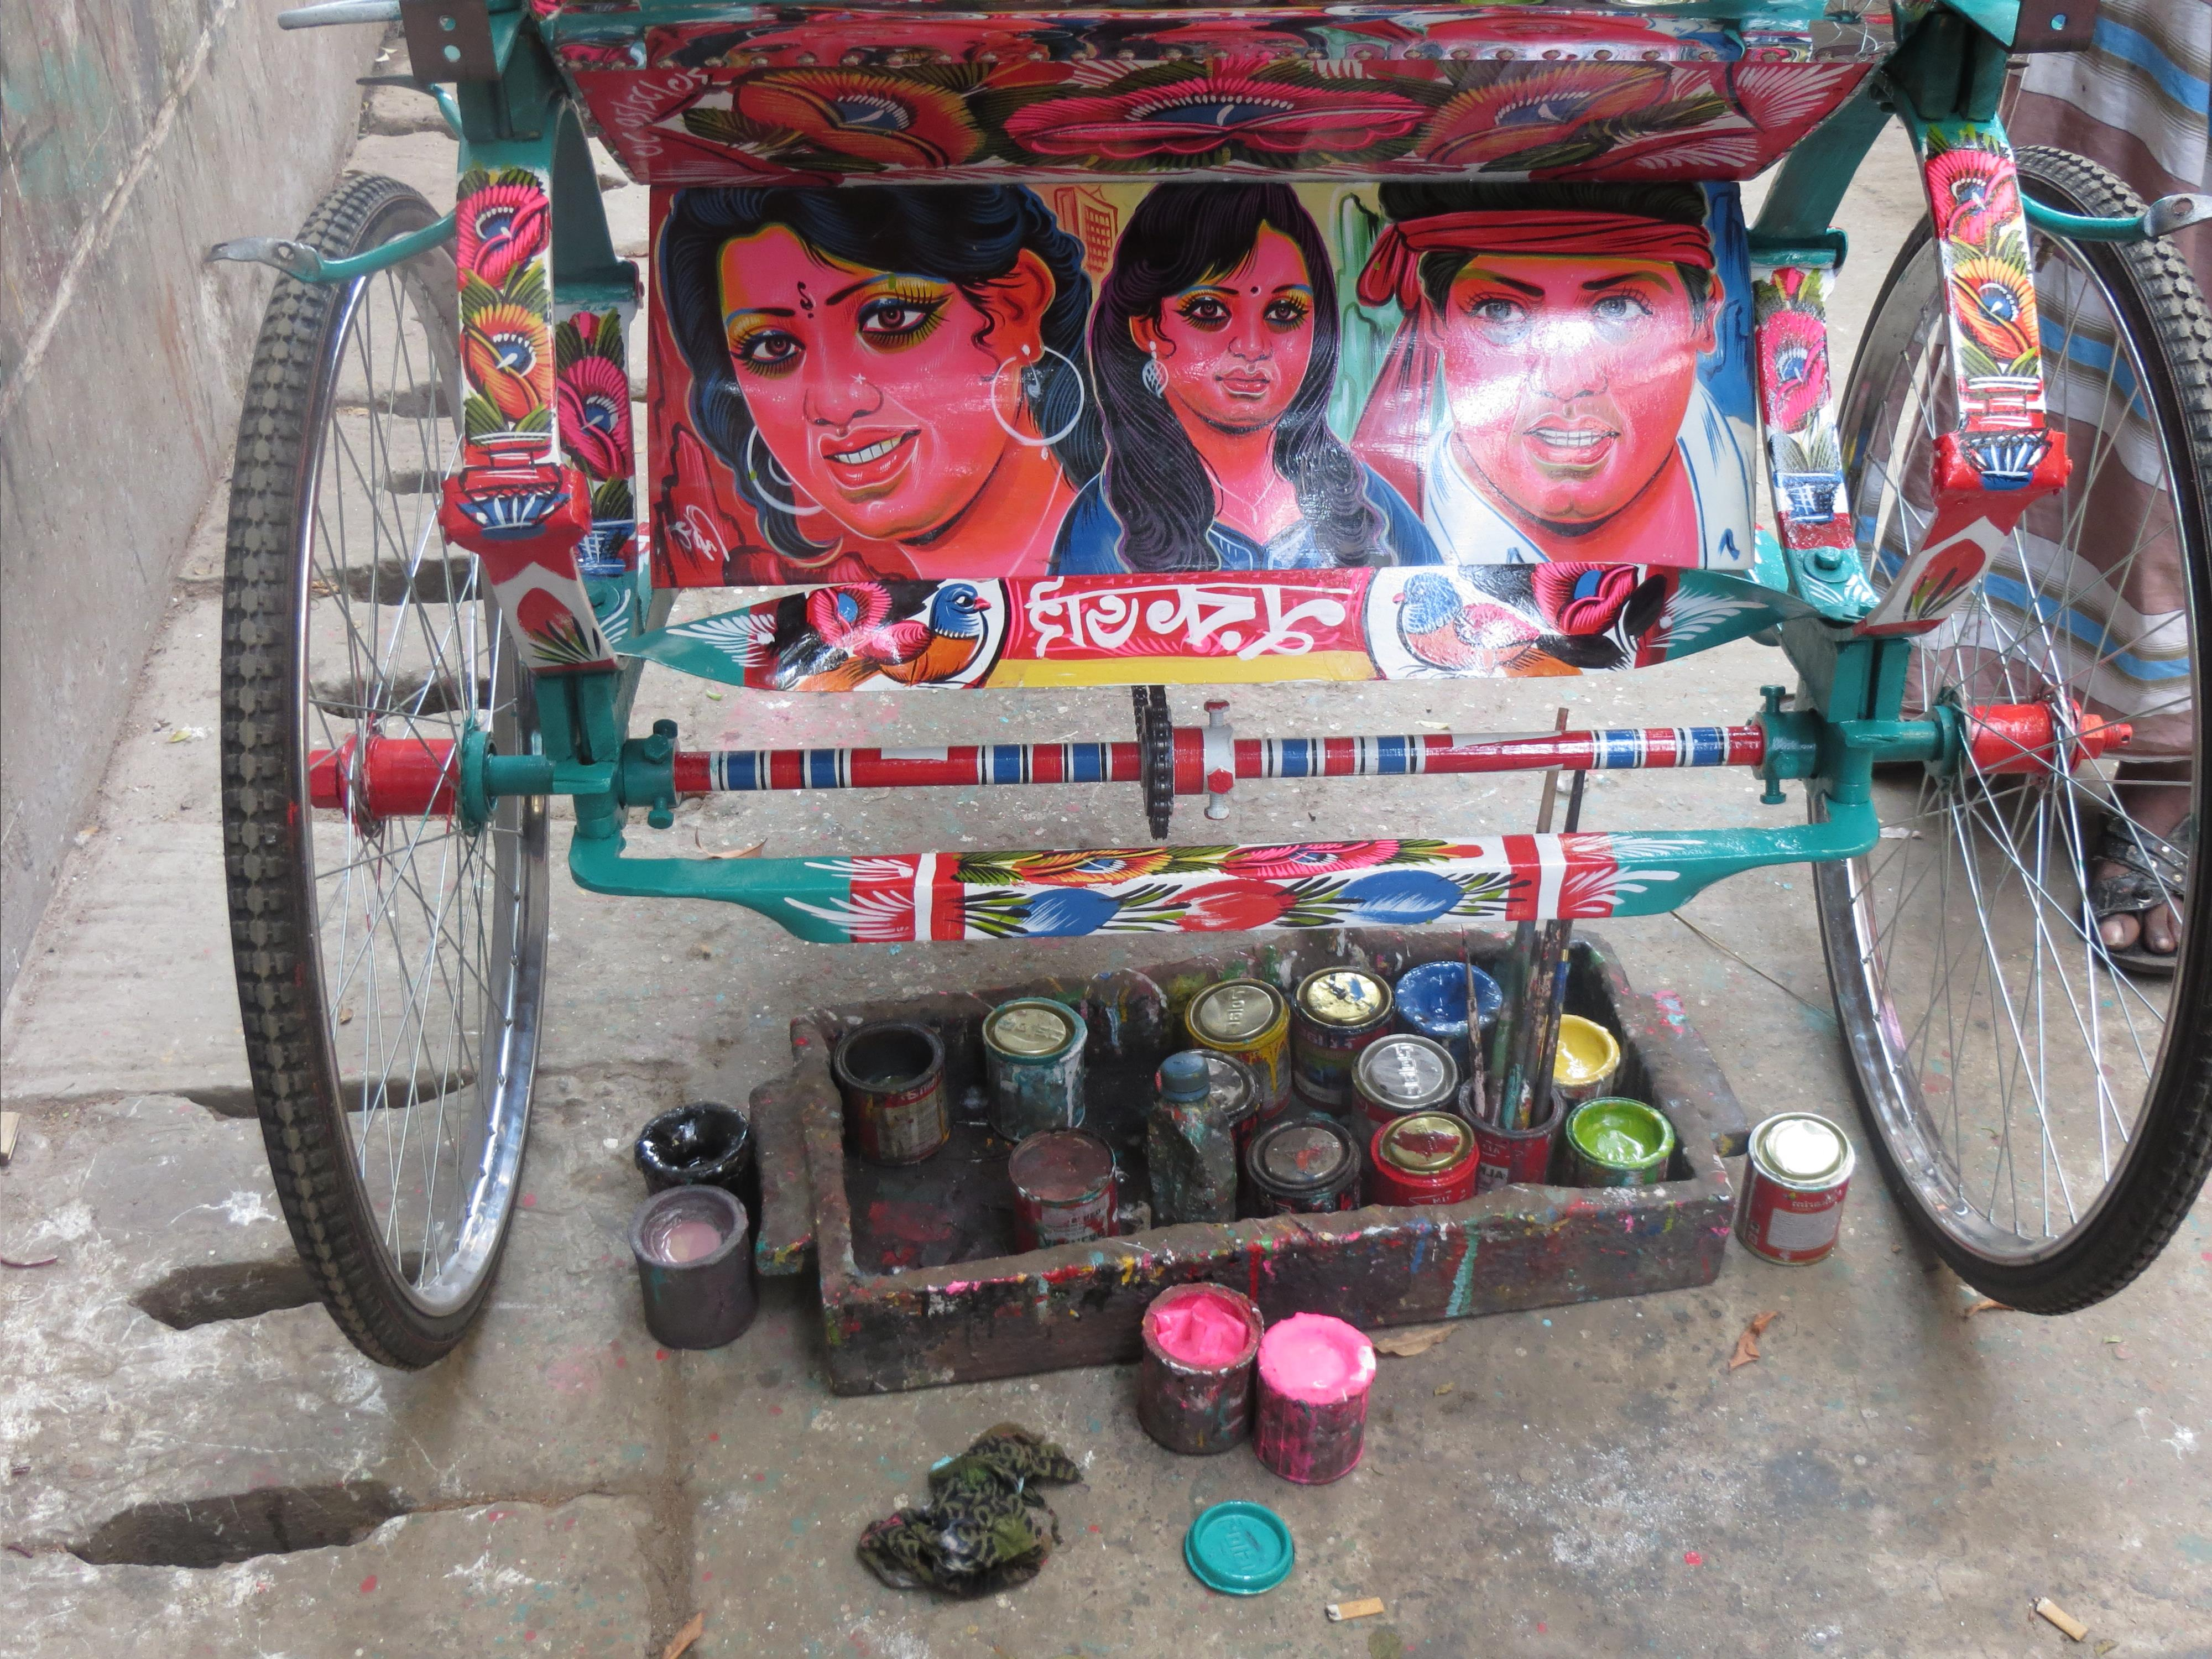Rickshaw: (192, 5, 2203, 1403)
